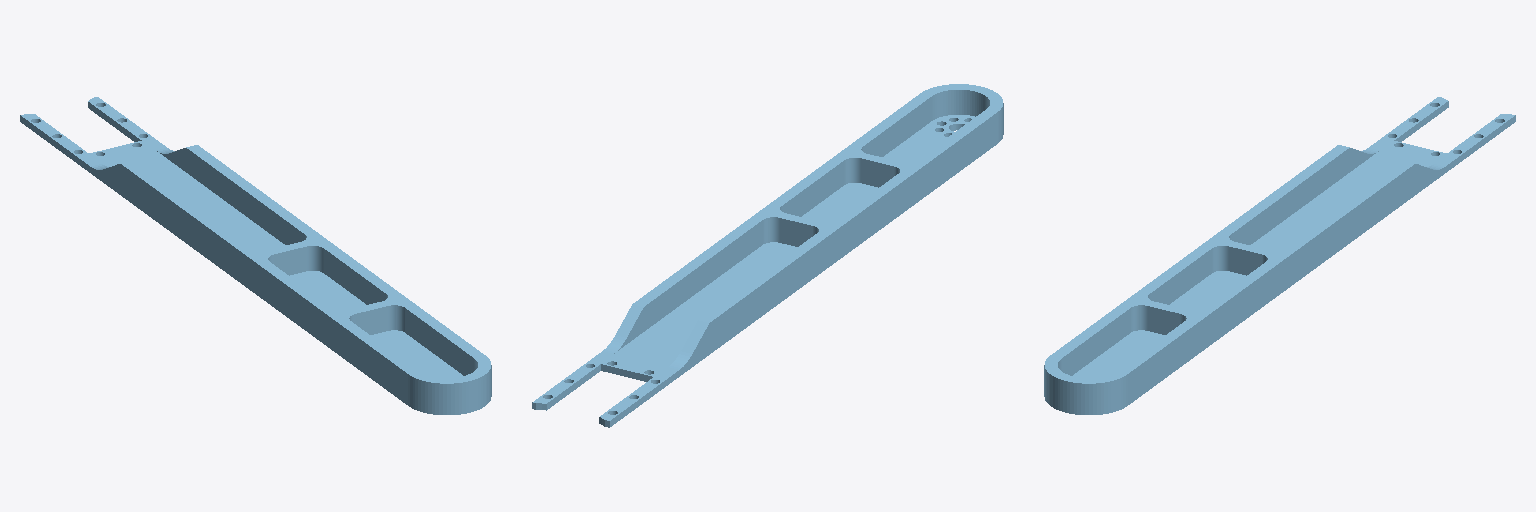
robot.urdf — project_robot:
<?xml version="1.0" ?>
<!-- Generated using onshape-to-robot -->
<!-- Onshape document_id: af0115e61c5582d0fb054981 -->
<robot name="project_robot">
  <!-- Link armbasemount -->
  <link name="armbasemount">
    <inertial>
      <origin xyz="-6.5271e-09 0.0497746 0.0289967" rpy="0 0 0"/>
      <mass value="0.0616"/>
      <inertia ixx="8.45165e-05" ixy="4.96297e-12" ixz="2.12951e-11" iyy="0.000159915" iyz="-2.37835e-05" izz="0.000138466"/>
    </inertial>
    <!-- Part armbasemount -->
    <visual>
      <origin xyz="0 0.1156 0.06" rpy="1.5708 -0 -1.5708"/>
      <geometry>
        <mesh filename="package://robot_desc/robot/assets/armbasemount.stl"/>
      </geometry>
      <material name="armbasemount_material">
        <color rgba="0.615686 0.811765 0.929412 1.0"/>
      </material>
    </visual>
    <collision>
      <origin xyz="0 0.1156 0.06" rpy="1.5708 -0 -1.5708"/>
      <geometry>
        <mesh filename="package://robot_desc/robot/assets/armbasemount.stl"/>
      </geometry>
    </collision>
  </link>
  <!-- Link dynamixelmotor_withhorn -->
  <link name="dynamixelmotor_withhorn">
    <inertial>
      <origin xyz="2.2107e-05 -0.0111083 -0.0258883" rpy="0 0 0"/>
      <mass value="0.0822187"/>
      <inertia ixx="2.3893e-05" ixy="2.16067e-08" ixz="-9.31492e-09" iyy="1.49171e-05" iyz="-4.32853e-07" izz="1.94145e-05"/>
    </inertial>
    <!-- Part dynamixelmotor_withhorn -->
    <visual>
      <origin xyz="0 0 -0.02585" rpy="0 -0 0"/>
      <geometry>
        <mesh filename="package://robot_desc/robot/assets/dynamixelmotor_withhorn.stl"/>
      </geometry>
      <material name="dynamixelmotor_withhorn_material">
        <color rgba="0.647059 0.647059 0.647059 1.0"/>
      </material>
    </visual>
    <collision>
      <origin xyz="0 0 -0.02585" rpy="0 -0 0"/>
      <geometry>
        <mesh filename="package://robot_desc/robot/assets/dynamixelmotor_withhorn.stl"/>
      </geometry>
    </collision>
  </link>
  <!-- Link combinedshoulder -->
  <link name="combinedshoulder">
    <inertial>
      <origin xyz="0.116229 1.86113e-07 -0.0231002" rpy="0 0 0"/>
      <mass value="0.0366356"/>
      <inertia ixx="3.025e-05" ixy="-1.31594e-09" ixz="-4.75937e-06" iyy="0.000251851" iyz="-1.67733e-10" izz="0.00023289"/>
    </inertial>
    <!-- Part combinedshoulder -->
    <visual>
      <origin xyz="0.169838 -0.0002 0" rpy="-2.73691e-48 -0 4.22857e-64"/>
      <geometry>
        <mesh filename="package://robot_desc/robot/assets/combinedshoulder.stl"/>
      </geometry>
      <material name="combinedshoulder_material">
        <color rgba="0.615686 0.811765 0.929412 1.0"/>
      </material>
    </visual>
    <collision>
      <origin xyz="0.169838 -0.0002 0" rpy="-2.73691e-48 -0 4.22857e-64"/>
      <geometry>
        <mesh filename="package://robot_desc/robot/assets/combinedshoulder.stl"/>
      </geometry>
    </collision>
  </link>
  <!-- Link dynamixelmotor_withhorn_2 -->
  <link name="dynamixelmotor_withhorn_2">
    <inertial>
      <origin xyz="0.286892 -2.2107e-05 -0.0180383" rpy="0 0 0"/>
      <mass value="0.0822187"/>
      <inertia ixx="1.49171e-05" ixy="-2.16067e-08" ixz="-4.32853e-07" iyy="2.3893e-05" iyz="9.31492e-09" izz="1.94145e-05"/>
    </inertial>
    <!-- Part dynamixelmotor_withhorn_2 -->
    <visual>
      <origin xyz="0.298 -9.33476e-18 -0.018" rpy="-5.47466e-32 1.03876e-32 -1.5708"/>
      <geometry>
        <mesh filename="package://robot_desc/robot/assets/dynamixelmotor_withhorn.stl"/>
      </geometry>
      <material name="dynamixelmotor_withhorn_2_material">
        <color rgba="0.647059 0.647059 0.647059 1.0"/>
      </material>
    </visual>
    <collision>
      <origin xyz="0.298 -9.33476e-18 -0.018" rpy="-5.47466e-32 1.03876e-32 -1.5708"/>
      <geometry>
        <mesh filename="package://robot_desc/robot/assets/dynamixelmotor_withhorn.stl"/>
      </geometry>
    </collision>
  </link>
  <!-- Link hooplink -->
  <link name="hooplink">
    <inertial>
      <origin xyz="0.13582 -2.36422e-05 0.00482647" rpy="0 0 0"/>
      <mass value="0.0174423"/>
      <inertia ixx="4.94754e-06" ixy="6.82679e-08" ixz="1.73928e-06" iyy="0.000152943" iyz="-1.37175e-09" izz="0.000157289"/>
    </inertial>
    <!-- Part hooplink -->
    <visual>
      <origin xyz="0.169838 0.1698 0" rpy="3.42114e-49 -0 2.47619e-65"/>
      <geometry>
        <mesh filename="package://robot_desc/robot/assets/hooplink.stl"/>
      </geometry>
      <material name="hooplink_material">
        <color rgba="0.615686 0.811765 0.929412 1.0"/>
      </material>
    </visual>
    <collision>
      <origin xyz="0.169838 0.1698 0" rpy="3.42114e-49 -0 2.47619e-65"/>
      <geometry>
        <mesh filename="package://robot_desc/robot/assets/hooplink.stl"/>
      </geometry>
    </collision>
  </link>
  <!-- Frame EEframe (dummy link + fixed joint) -->
  <link name="EEframe">
    <origin xyz="0 0 0" rpy="0 -0 0"/>
    <inertial>
      <origin xyz="0 0 0" rpy="0 0 0"/>
      <mass value="1e-9"/>
      <inertia ixx="0" ixy="0" ixz="0" iyy="0" iyz="0" izz="0"/>
    </inertial>
  </link>
  <joint name="EEframe_frame" type="fixed">
    <origin xyz="0.3 -0.0002 0.003" rpy="3.42114e-49 -0 2.47619e-65"/>
    <parent link="hooplink"/>
    <child link="EEframe"/>
    <axis xyz="0 0 0"/>
  </joint>
  <!-- Joint from dynamixelmotor_withhorn_2 to hooplink -->
  <joint name="elbow" type="revolute">
    <origin xyz="0.298 -7.17848e-17 0.0025" rpy="-1.93211e-32 -1.45615e-32 -0.00992709"/>
    <parent link="dynamixelmotor_withhorn_2"/>
    <child link="hooplink"/>
    <axis xyz="0 0 1"/>
    <limit effort="10" velocity="10" lower="-2.29391" upper="2.31376"/>
  </joint>
  <!-- Joint from combinedshoulder to dynamixelmotor_withhorn_2 -->
  <joint name="elbowmotor" type="fixed">
    <origin xyz="0 0 0.003" rpy="-2.73691e-48 -0 4.22857e-64"/>
    <parent link="combinedshoulder"/>
    <child link="dynamixelmotor_withhorn_2"/>
    <axis xyz="0 0 1"/>
    <limit effort="10" velocity="10"/>
  </joint>
  <!-- Joint from dynamixelmotor_withhorn to combinedshoulder -->
  <joint name="shoulder" type="revolute">
    <origin xyz="-2.16027e-17 4.996e-16 -0.00535" rpy="1.71531e-32 2.46519e-32 1.5708"/>
    <parent link="dynamixelmotor_withhorn"/>
    <child link="combinedshoulder"/>
    <axis xyz="0 0 1"/>
    <limit effort="10" velocity="10" lower="-1.5708" upper="1.5708"/>
  </joint>
  <!-- Joint from armbasemount to dynamixelmotor_withhorn -->
  <joint name="shouldermotor" type="fixed">
    <origin xyz="0 0.1036 0.10388" rpy="0 -0 0"/>
    <parent link="armbasemount"/>
    <child link="dynamixelmotor_withhorn"/>
    <axis xyz="0 0 1"/>
    <limit effort="10" velocity="10"/>
  </joint>
</robot>

--- Render facts (derived) ---
The picture shows the robot from 3 angles, left to right: view 1: azimuth 30°, elevation 25°; view 2: azimuth 150°, elevation 25°; view 3: azimuth 330°, elevation 25°; orthographic projection.
Robot: project_robot — 6 links, 5 joints (2 revolute, 3 fixed); root link armbasemount; default pose: all joints at 0.
Visible links, largest first — view 1: combinedshoulder; view 2: combinedshoulder; view 3: combinedshoulder.
Link boxes in pixels (x1,y1,x2,y2): combinedshoulder: [20, 97, 491, 414]; combinedshoulder: [532, 84, 1003, 427]; combinedshoulder: [1044, 97, 1515, 414].
Size in the robot's own frame: 0.0356 by 0.3278 by 0.014 metres.
Meshes: 4 distinct files referenced, 1 mesh visuals loaded (1 binary STL); not drawn: 4 (reference not matched to a file when rendering).